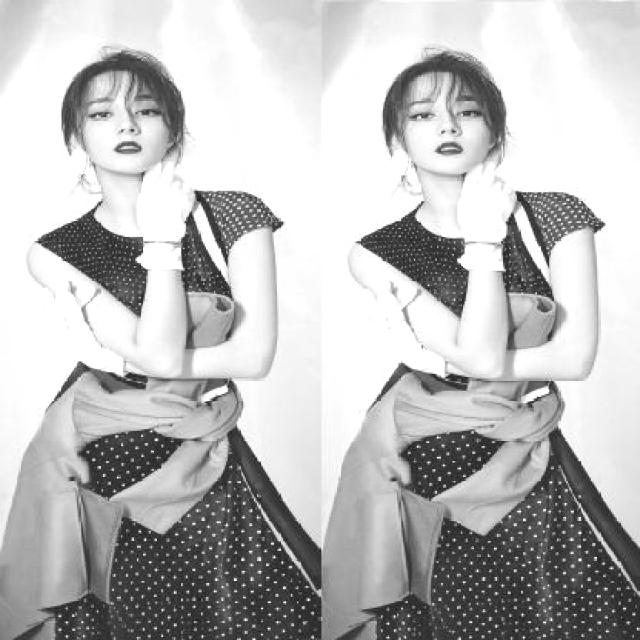face_nomask: (80, 88, 169, 174), (403, 89, 497, 168)
hand_glove: (358, 280, 432, 371), (42, 280, 109, 372), (131, 164, 195, 256), (456, 149, 518, 243)
head_nohelmet: (54, 43, 175, 97), (392, 46, 494, 100)
person: (14, 38, 317, 640), (344, 32, 614, 640)
